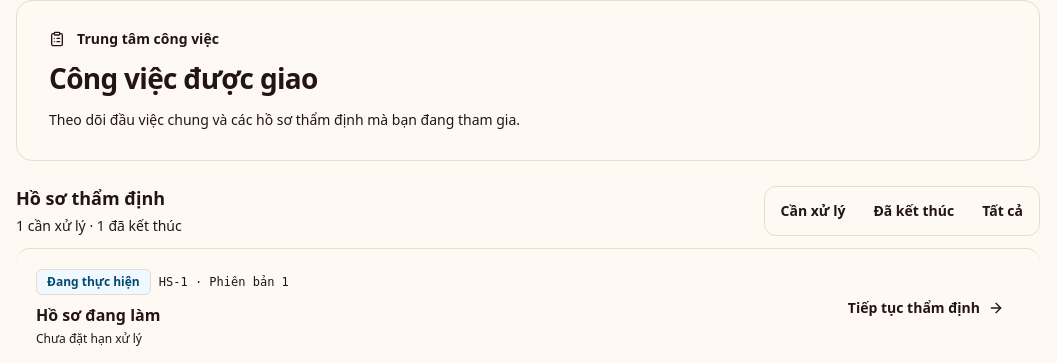
Scenario: MyWorkAllocationList › separates submitted reviews from work that still needs attention
This screenshot has width=1057, height=363.
Check: the heading "Hồ sơ đang làm" is shown, box [36, 304, 160, 326]
Check: the text "Hồ sơ đã gửi" is not shown
Step 1. Click the button "Đã kết thúc" → [914, 211], box [861, 191, 966, 231]
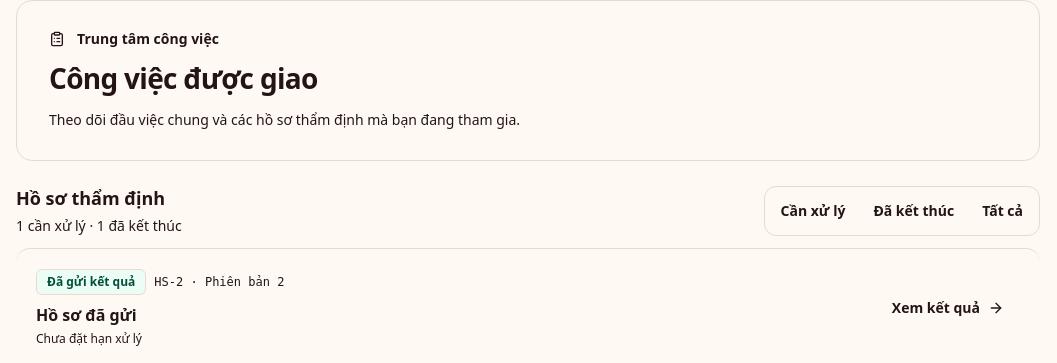
Check: the heading "Hồ sơ đã gửi" is shown, box [36, 304, 137, 326]
Check: the text "Đã gửi kết quả" is shown, box [36, 269, 146, 295]
Check: the heading "Hồ sơ đang làm" is gone
